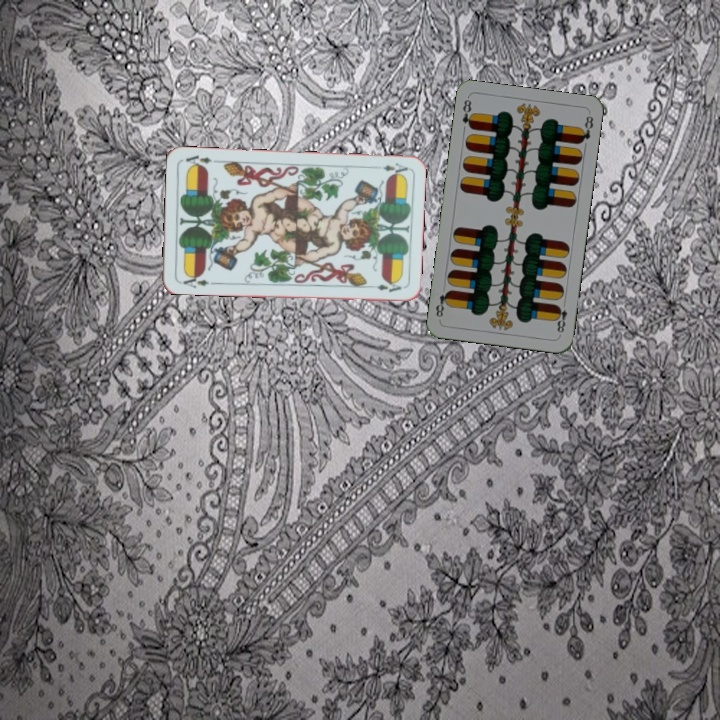E8: (551, 297, 570, 337), (458, 95, 477, 131)
EA: (176, 270, 217, 290), (379, 158, 410, 178)
